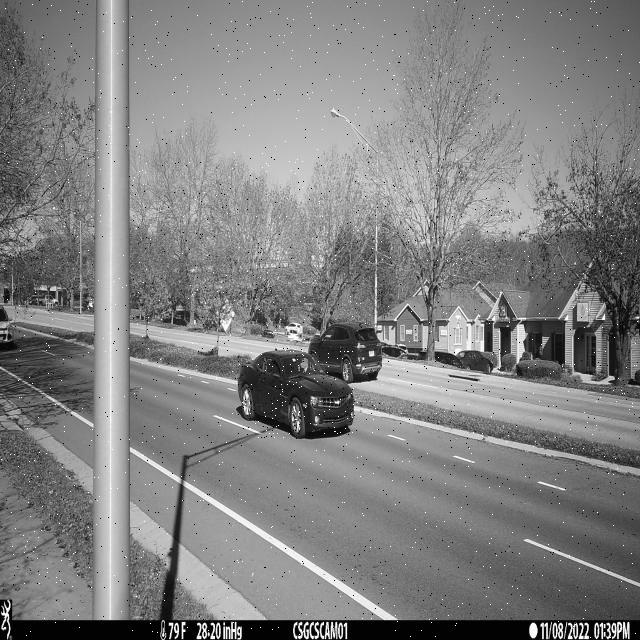Sedan: (238, 347, 356, 439)
